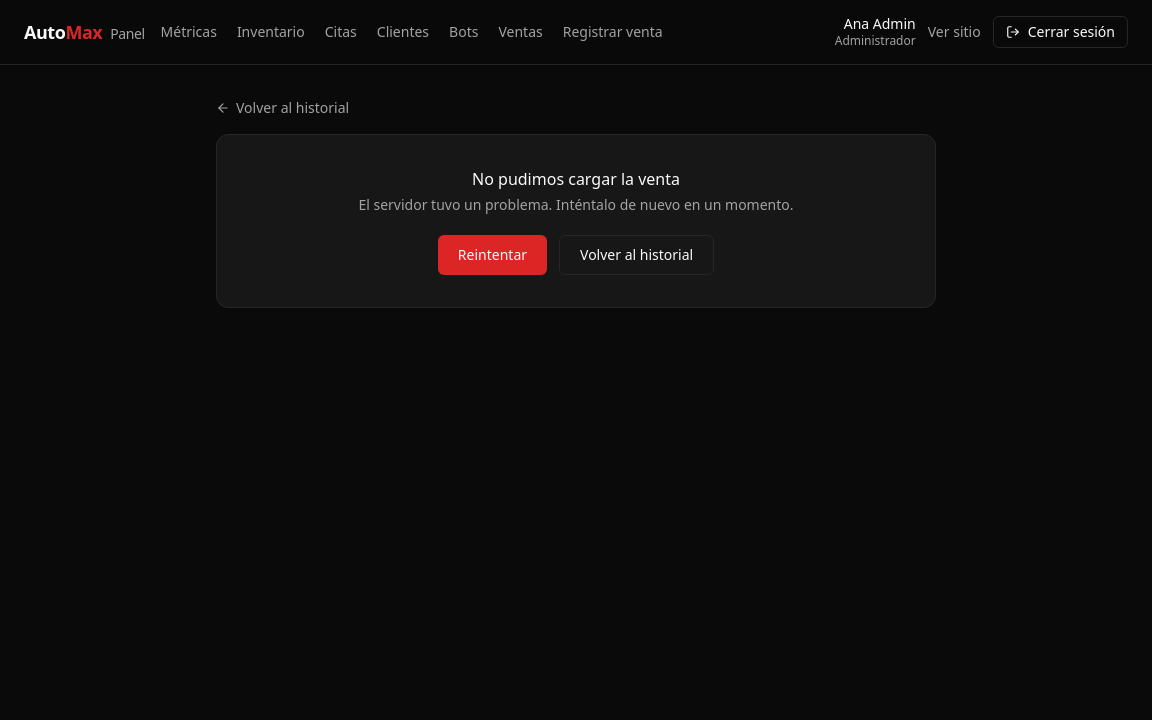
Test: Historial de ventas: detalle (solo admin) › un error del servidor muestra un mensaje fijo y permite reintentar
Expected: the text "No pudimos cargar la venta" is shown, [472,168,680,190]
Click the button "Reintentar": (492, 255) [438,235,547,275]
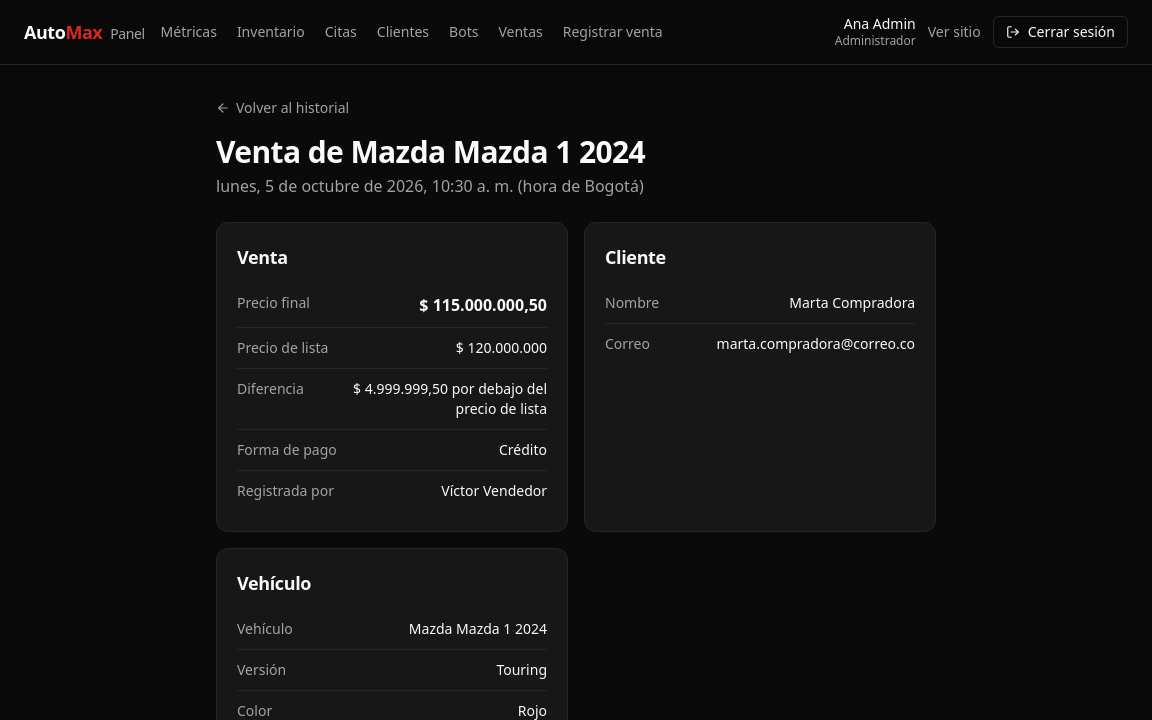
Result: the heading "Venta de Mazda Mazda 1 2024" is shown at [216,131,645,172]
